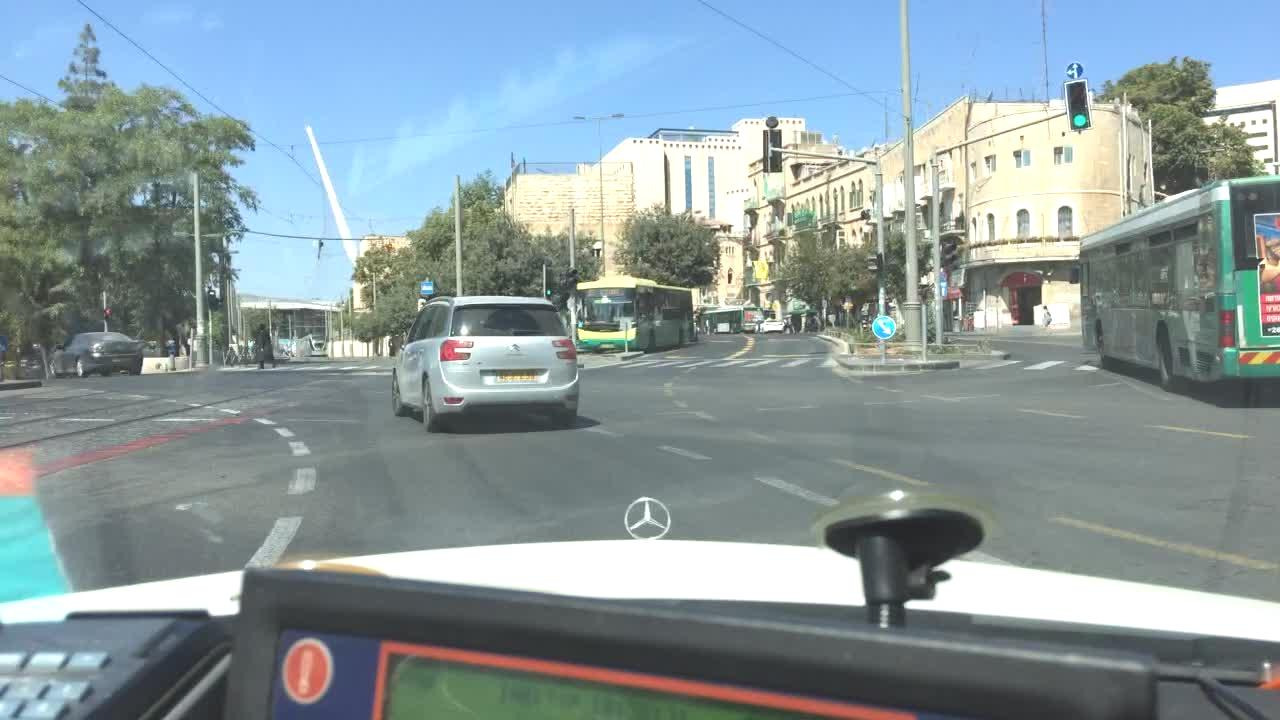Mercedes: (607, 479, 680, 550)
